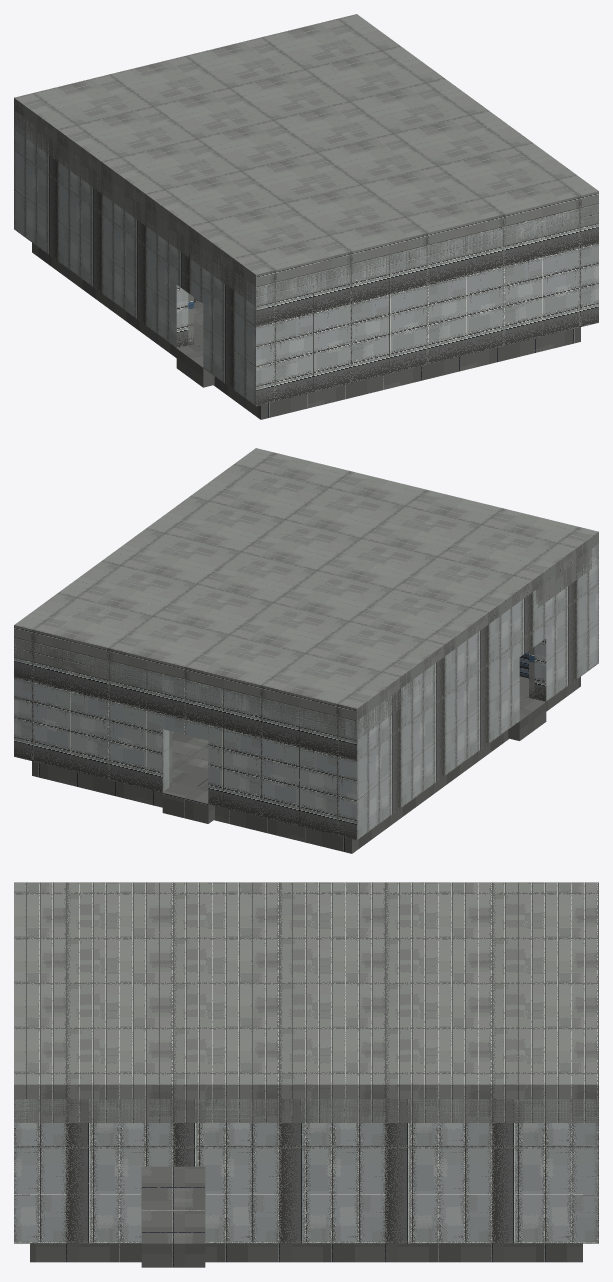
File: shell_bay_terminus.glb
3 renders of one model, top to bottom at view 1: azimuth 30°, elevation 25°; view 2: azimuth 150°, elevation 25°; view 3: azimuth 270°, elevation 25°, orthographic. The views are drawn at different scales.
Parts seen in each view (by area): view 1: bay; view 2: bay; view 3: bay.
Boxes of the visible parts, x1=… form: bay: x1=14, y1=14, x2=598, y2=419; bay: x1=14, y1=448, x2=598, y2=853; bay: x1=14, y1=882, x2=598, y2=1267.
Size of what is drawn, in the model's own units: 18 by 7.66 by 22.
Materials: 5 (5 with a texture image).
